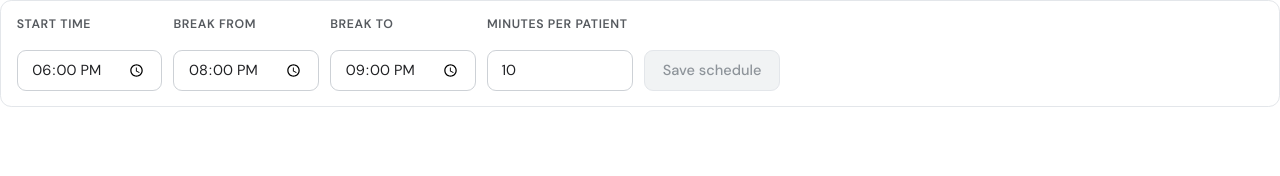
Test: OpdScheduleBar › the server's own sentence is shown when it is one written for a doctor (a 400)
Replace the text in the number field labelled "Minutes per patient" with "12" at (560, 70), box [487, 50, 633, 91]
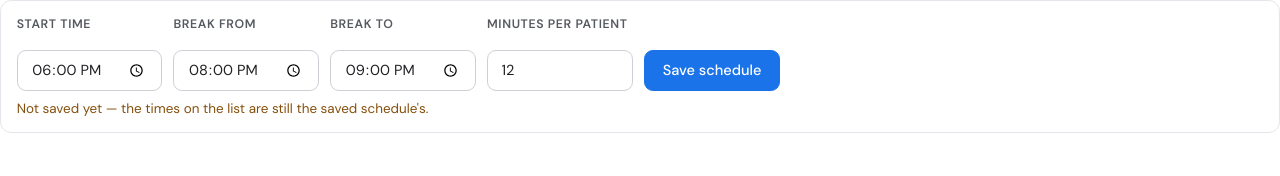
Click the button "Save schedule".
click(712, 70)  # box [644, 50, 780, 91]
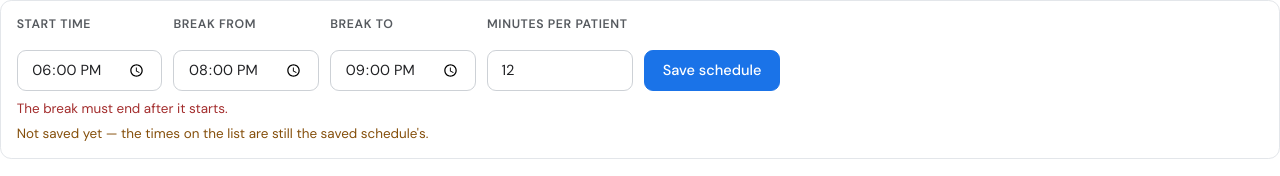
expect the message reads "The break must end after it starts.": met, box [17, 100, 228, 116]
